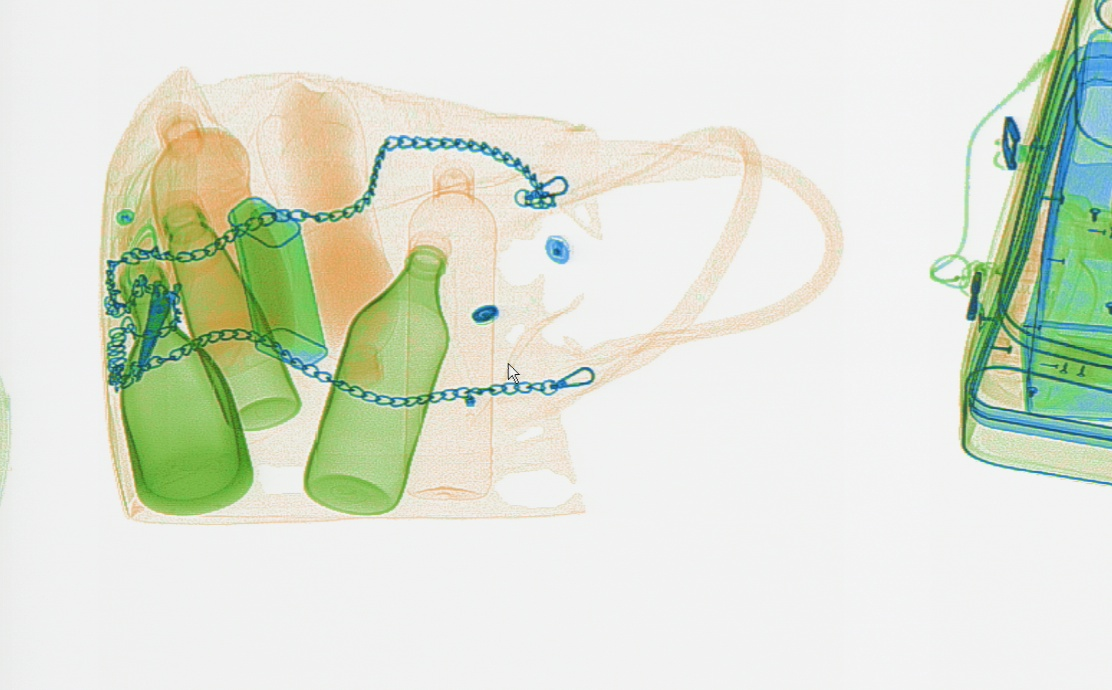scissors: (133, 191, 225, 381)
zippooil: (225, 195, 327, 370)
